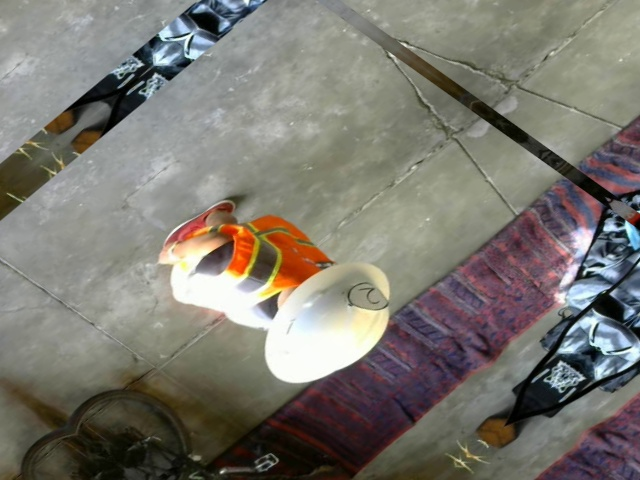two: (341, 277, 395, 318)
